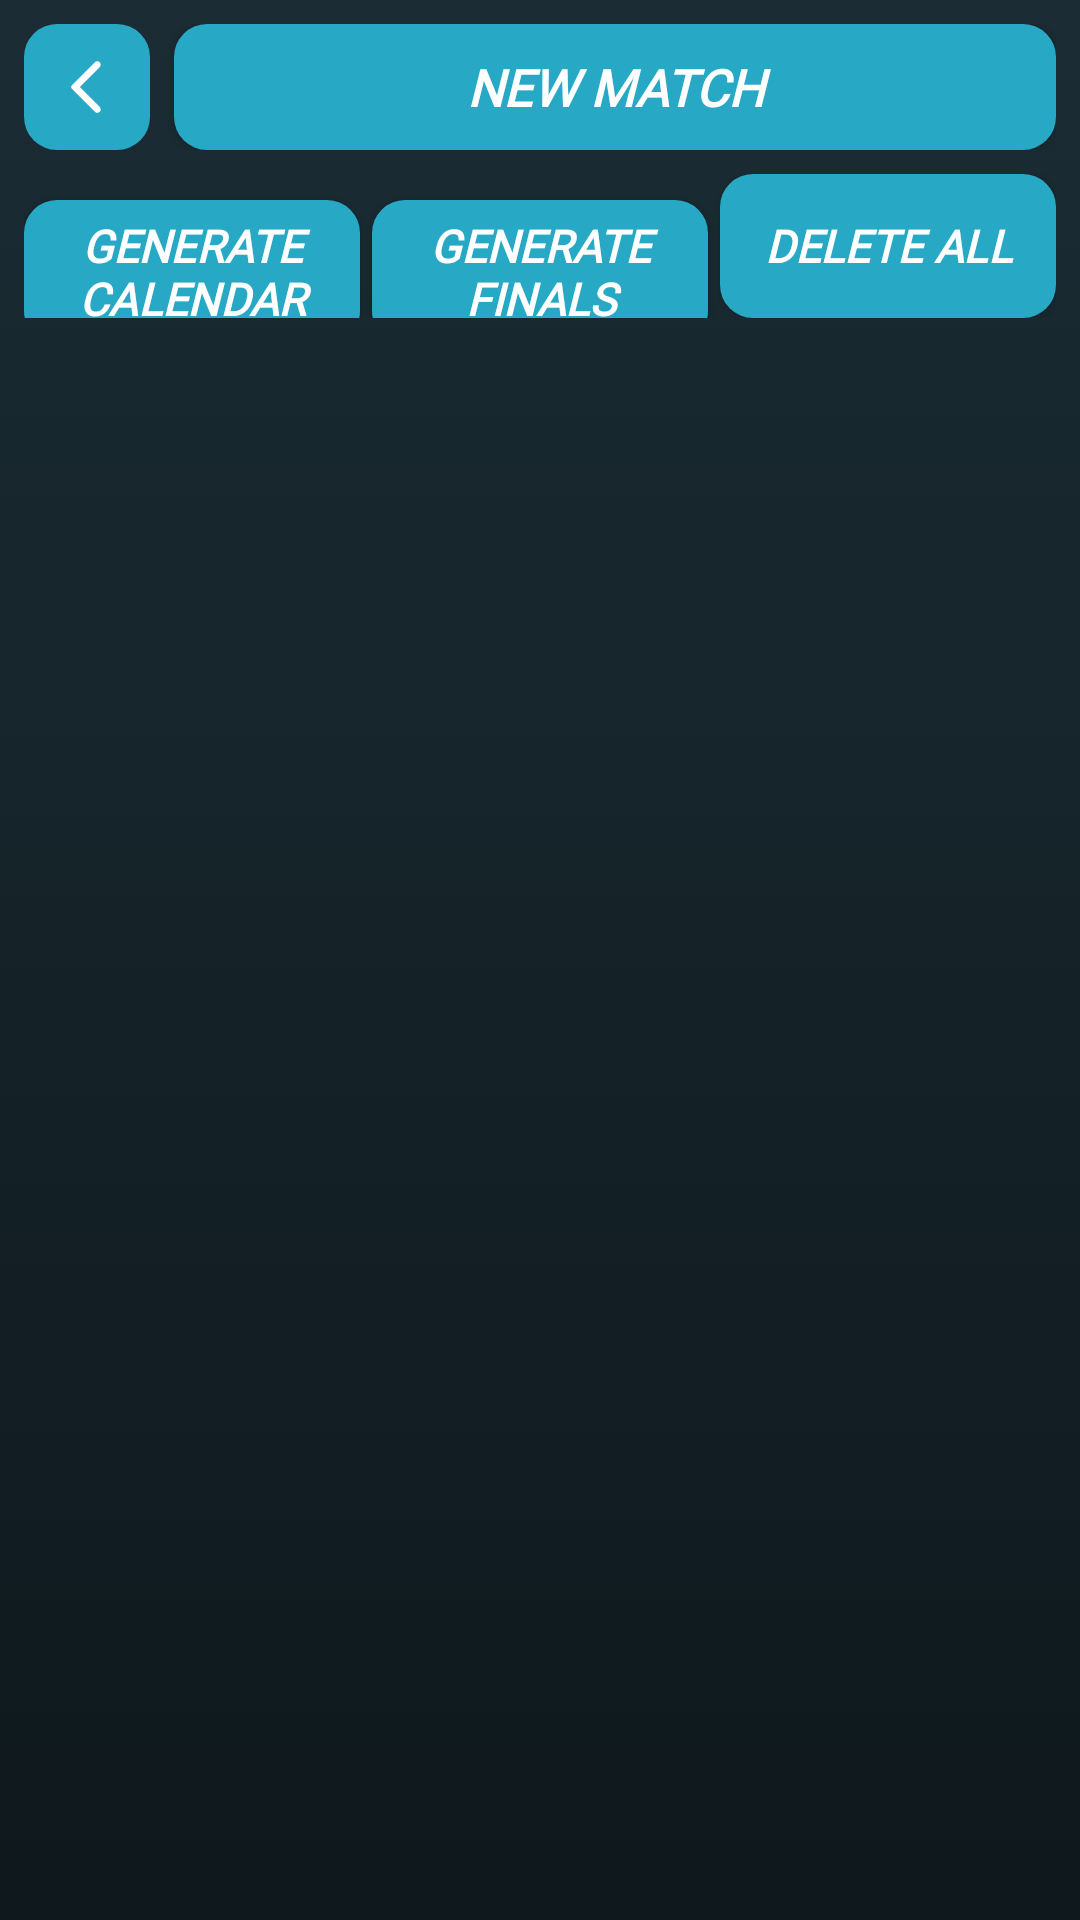

Locate icon controls on the screen. Image size 1080 × 1920, boxes as (x1, y1, x2, y2).
BACK: (24, 24, 150, 150)
